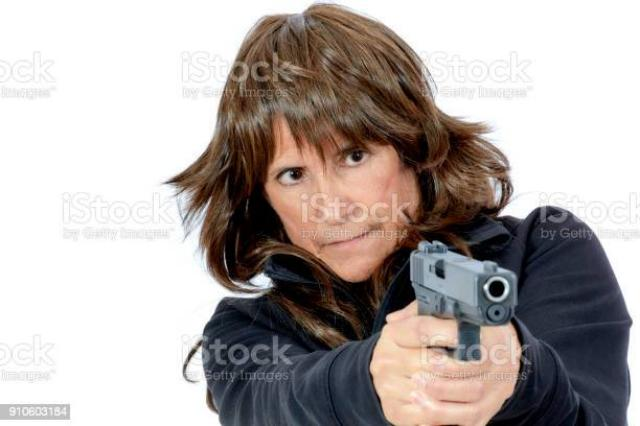handgun: (407, 237, 521, 426)
